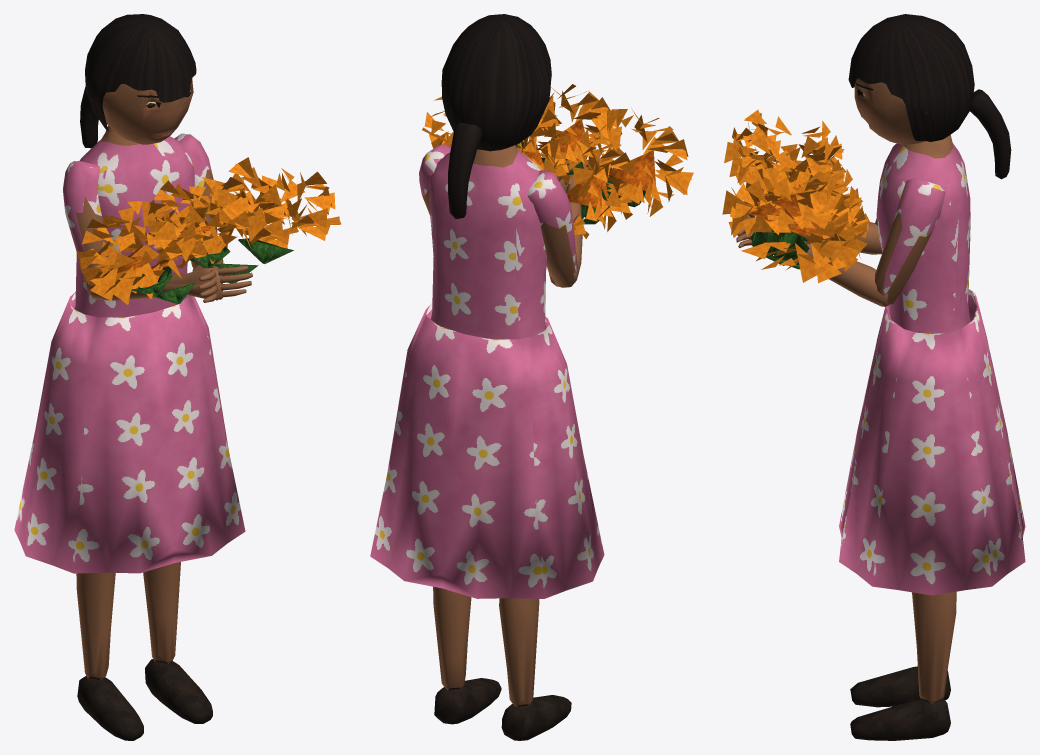
The model's file is persona_nina_flores_lod.obj.
3 views of the same model, side by side, from view 1: azimuth 30°, elevation 25°; view 2: azimuth 150°, elevation 25°; view 3: azimuth 270°, elevation 25° (orthographic).
Parts seen in each view (by area): view 1: persona_nina_flores, Flor_Cempasuchil.001, Flor_Cempasuchil.003, Flor_Cempasuchil.002, Flor_Cempasuchil.005, Flor_Cempasuchil.004; view 2: persona_nina_flores, Flor_Cempasuchil.001, Flor_Cempasuchil.002, Flor_Cempasuchil.004, Flor_Cempasuchil.003, Flor_Cempasuchil.005; view 3: persona_nina_flores, Flor_Cempasuchil.003, Flor_Cempasuchil.005, Flor_Cempasuchil.002, Flor_Cempasuchil.001, Flor_Cempasuchil.004.
Part boxes in pixels (<box>): persona_nina_flores: <box>14,14,252,740</box>; Flor_Cempasuchil.001: <box>77,199,195,304</box>; Flor_Cempasuchil.003: <box>209,157,341,263</box>; Flor_Cempasuchil.002: <box>145,177,263,267</box>; Flor_Cempasuchil.005: <box>178,186,298,283</box>; Flor_Cempasuchil.004: <box>108,217,221,304</box>; persona_nina_flores: <box>370,14,611,740</box>; Flor_Cempasuchil.001: <box>564,108,693,219</box>; Flor_Cempasuchil.002: <box>516,84,622,184</box>; Flor_Cempasuchil.004: <box>540,134,639,238</box>; Flor_Cempasuchil.003: <box>422,96,556,148</box>; Flor_Cempasuchil.005: <box>517,109,566,170</box>; persona_nina_flores: <box>736,14,1025,740</box>; Flor_Cempasuchil.003: <box>722,164,851,282</box>; Flor_Cempasuchil.005: <box>747,171,869,283</box>; Flor_Cempasuchil.002: <box>729,130,845,216</box>; Flor_Cempasuchil.001: <box>724,109,844,189</box>; Flor_Cempasuchil.004: <box>772,150,862,239</box>.
Bounding box in the file's own units: 0.4234 × 1.15 × 0.4478.
Materials: 13 (13 with a texture image).
